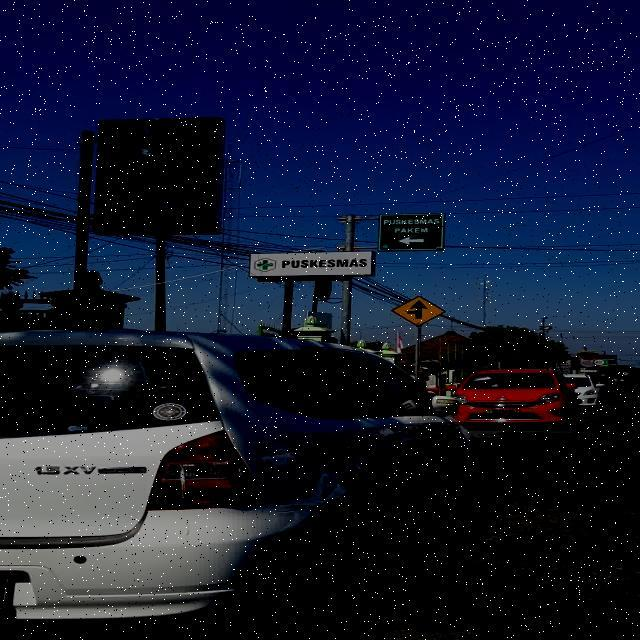Persimpangan 3 Prioritas Kiri: (391, 296, 446, 326)
